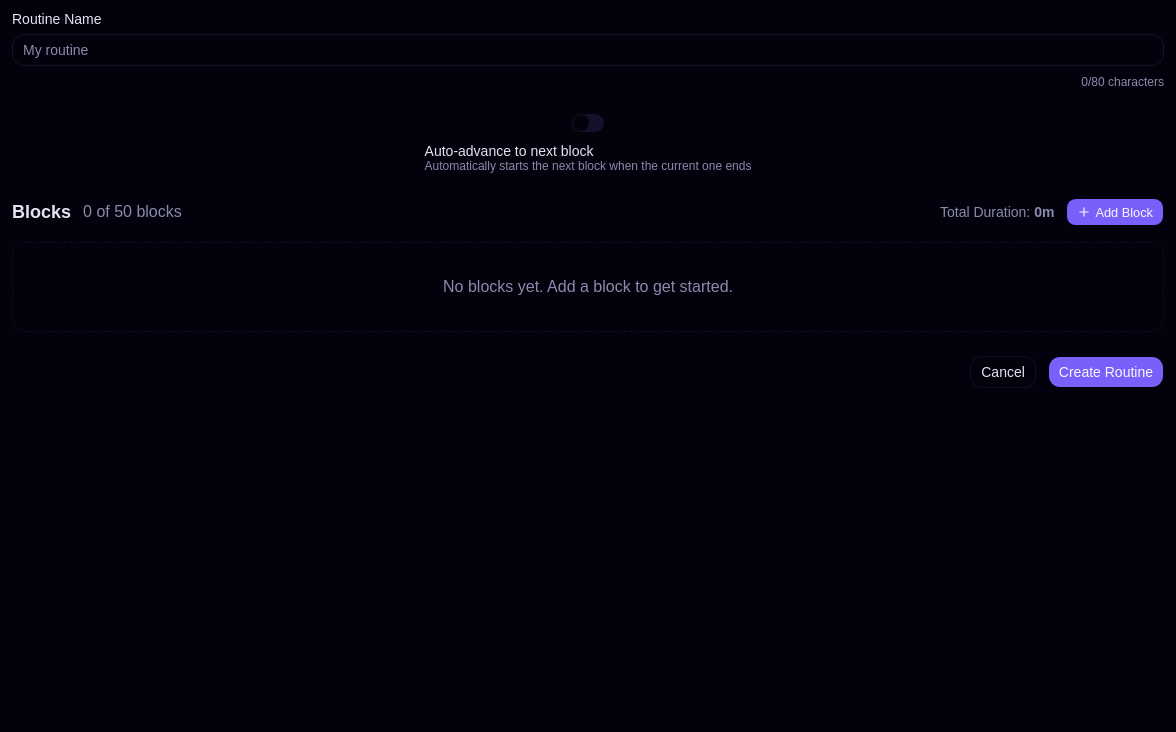
Test: RoutineEditor › Add Block button adds a block
This screenshot has width=1176, height=732.
Click the button "Add Block" at x=1115, y=212, box [1066, 198, 1164, 226]
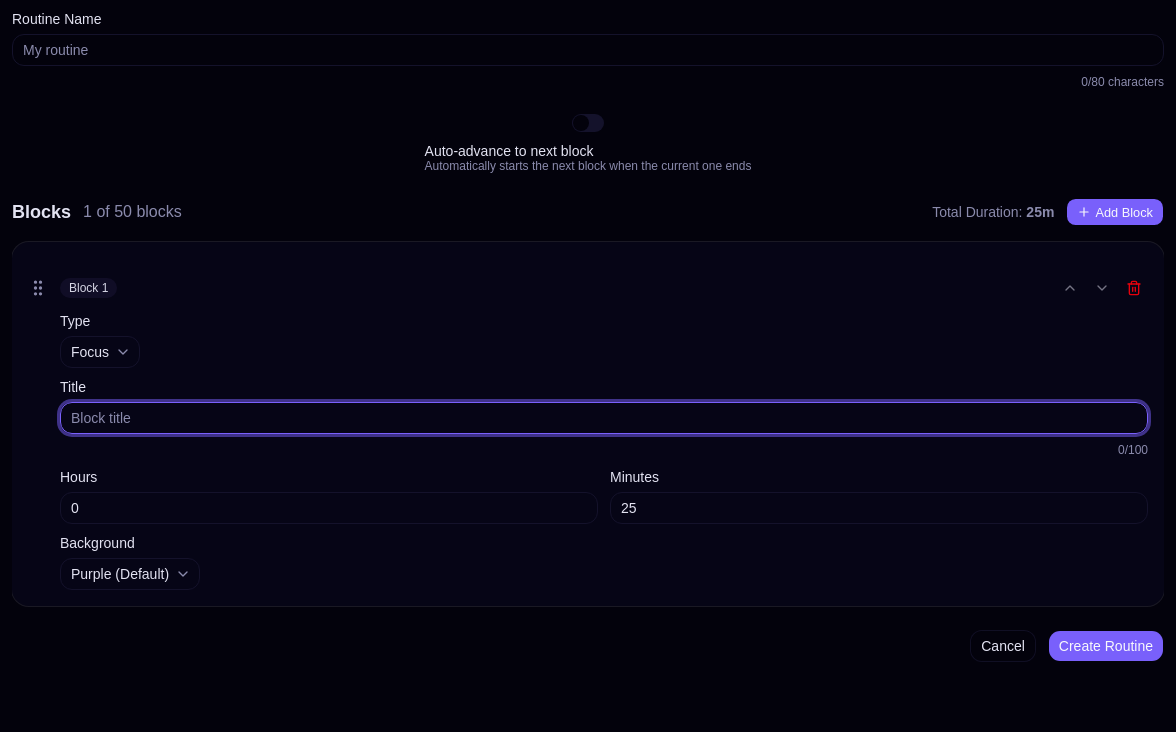
expect the icon "Block 1" is shown: met, box [60, 278, 117, 298]
